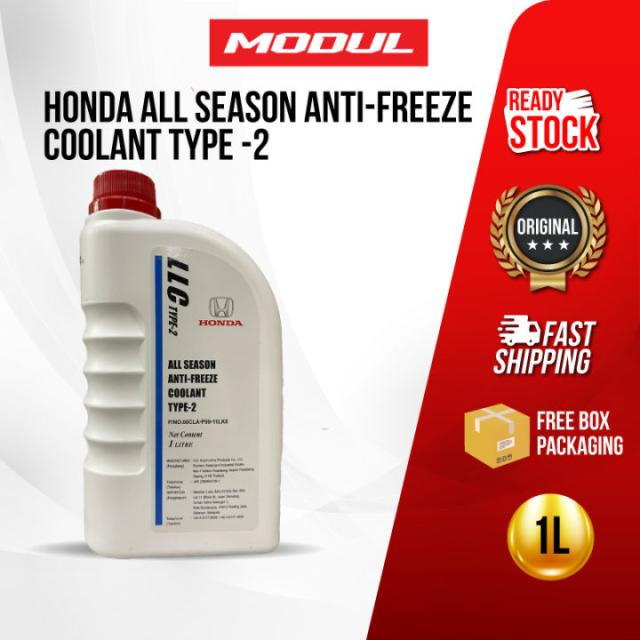coolant: (68, 166, 297, 564)
